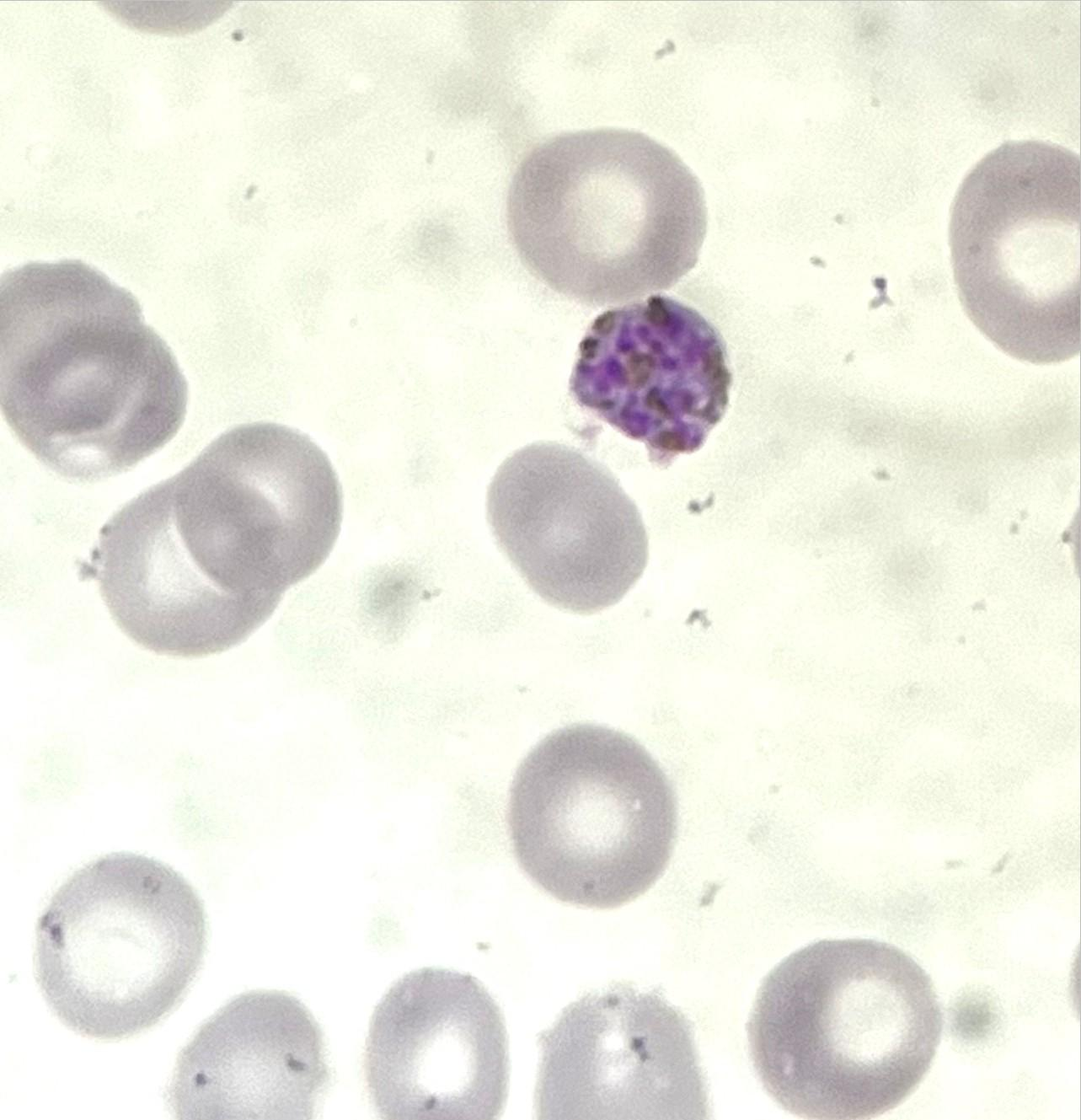Infected: (570, 299, 730, 456)
Uninfected: (506, 125, 708, 307), (750, 936, 944, 1120), (508, 714, 682, 910), (37, 849, 206, 1039), (101, 476, 285, 649), (486, 439, 655, 614), (183, 419, 345, 591), (0, 262, 140, 432), (25, 330, 183, 473), (371, 967, 506, 1120), (166, 987, 320, 1120)
